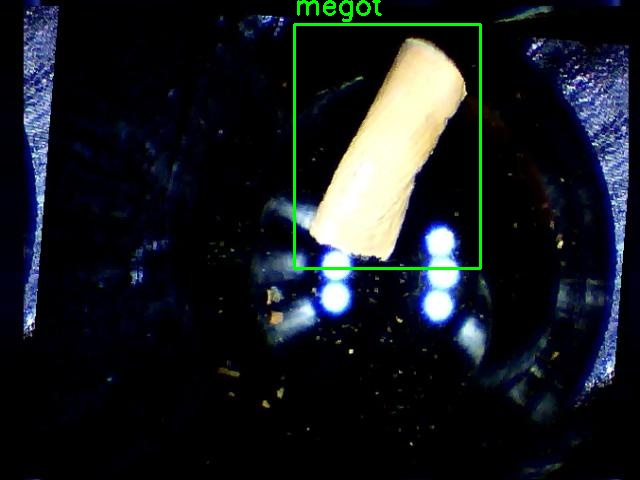megot: (294, 24, 480, 268)
